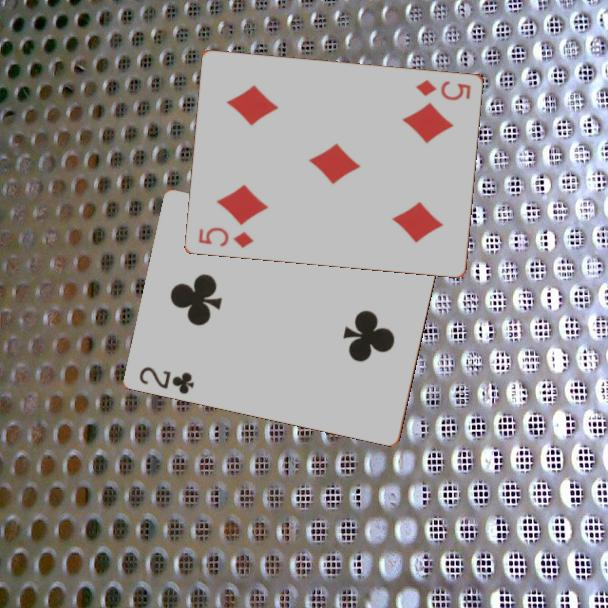c02: (136, 363, 198, 397)
d05: (195, 223, 257, 251), (413, 76, 474, 103)
